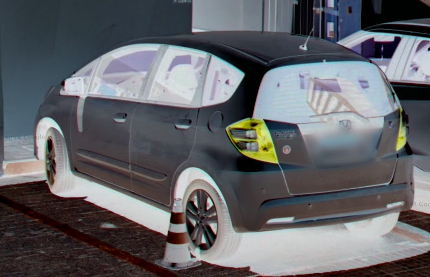car: (33, 31, 415, 261)
